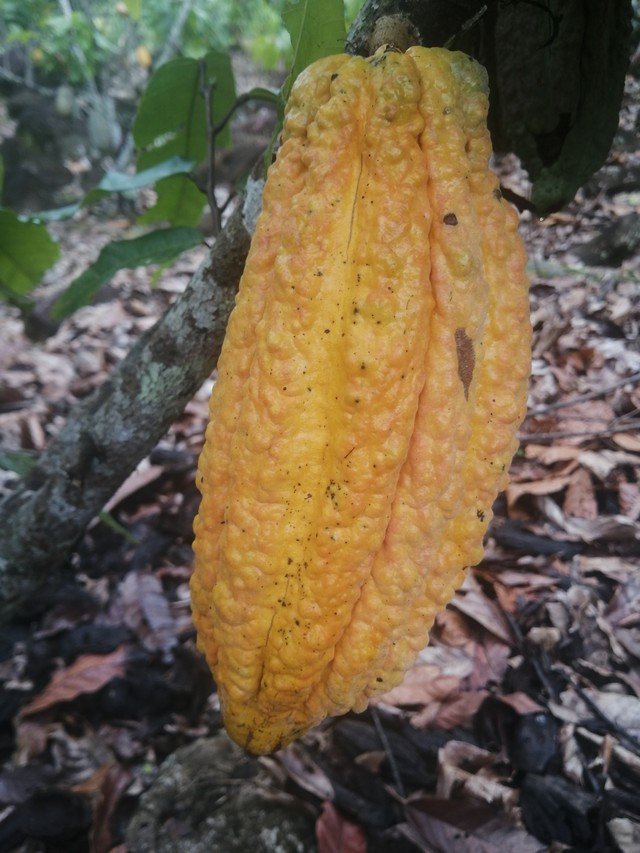Health: (172, 39, 547, 764)
